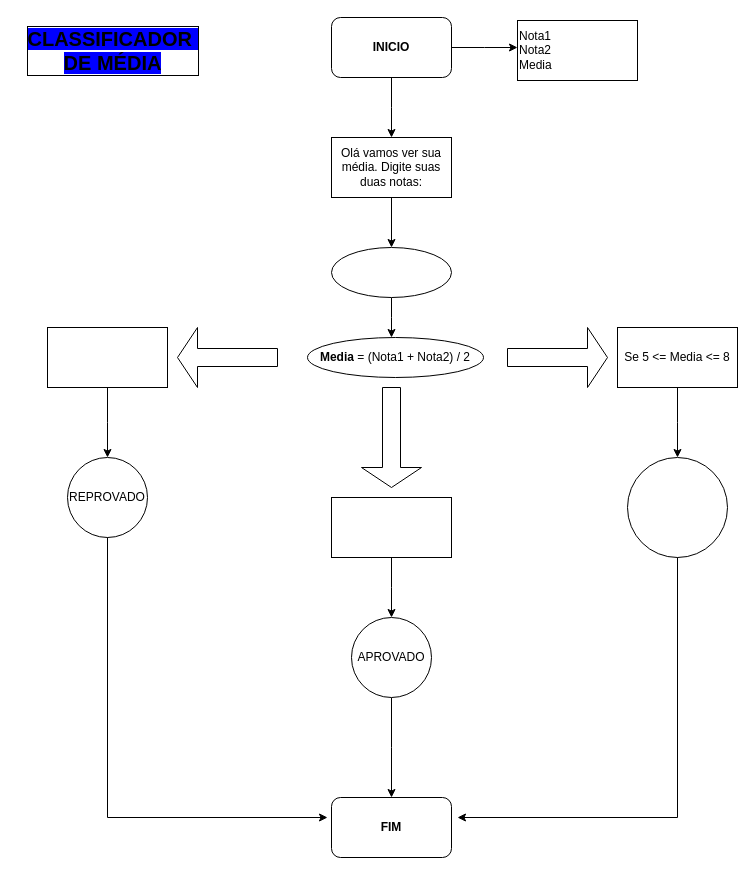
Some shapes in this 755 by 875 pixel diagram are drawn without their labels. Each missing label, with the centre of its shape:
Nota1 <- entrada Nota2 <- entrada: (x=391, y=272)
RECUPERAÇÃO: (x=677, y=507)
Se Media < 5: (x=107, y=357)
Se Media > 8: (x=391, y=527)
